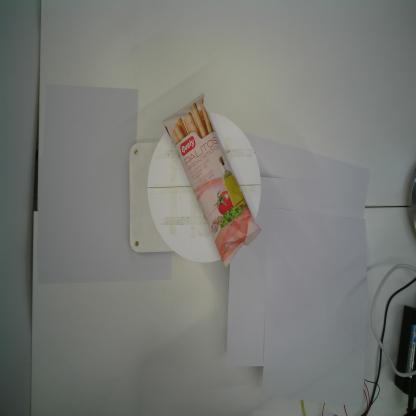Dessert: (162, 92, 262, 269)
